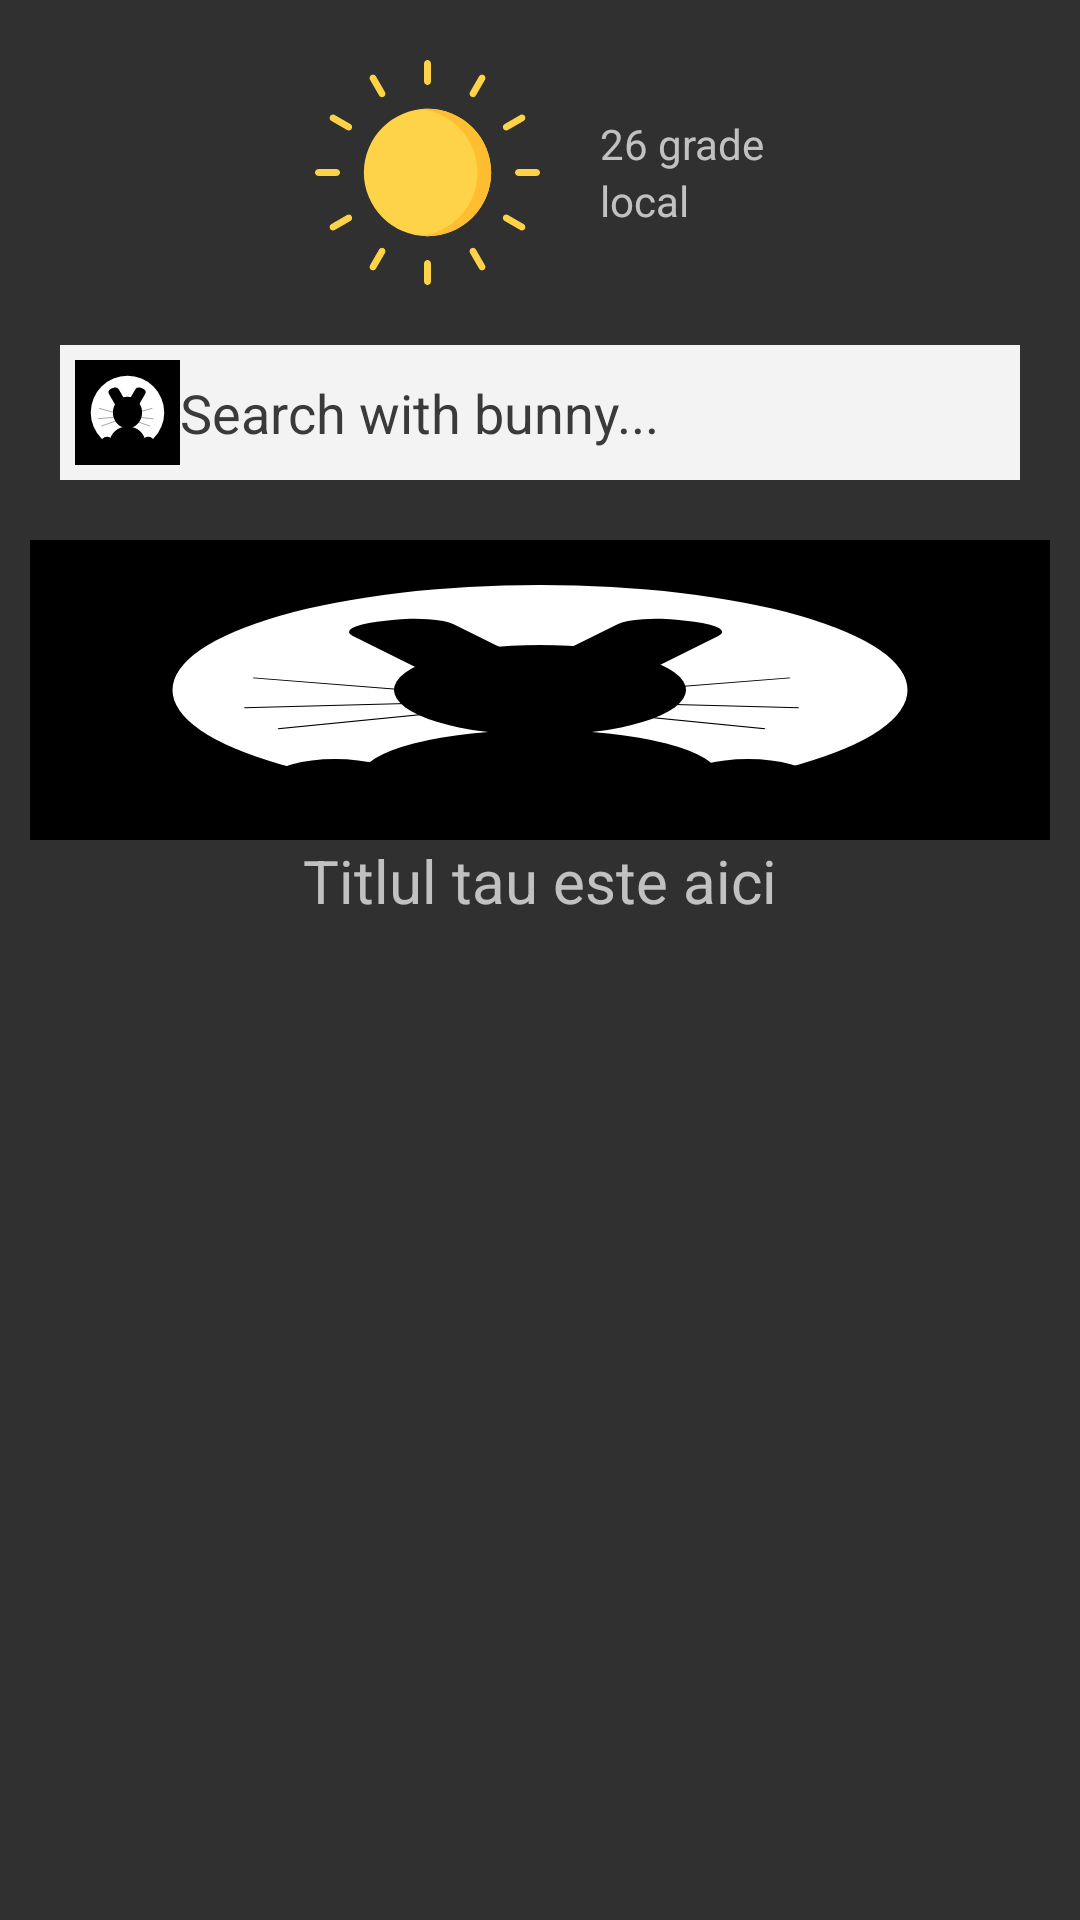

Named icons in this screenshot (1080px x 1920px) and their bounding boxes, (x1, y1, x2, y2):
sun: (315, 60, 540, 285)
